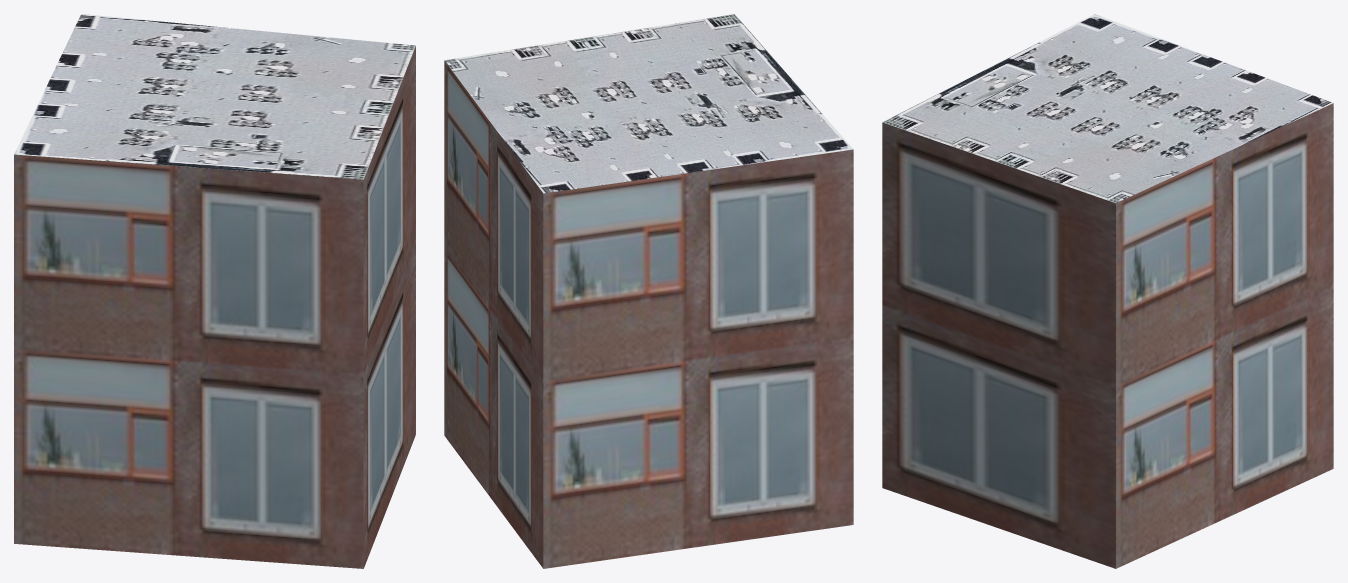
File: ResTex__5277.fbx
The picture shows the model from 3 angles, left to right: view 1: azimuth 30°, elevation 25°; view 2: azimuth 150°, elevation 25°; view 3: azimuth 270°, elevation 25°; orthographic projection. The views are drawn at different scales.
Parts seen in each view (by area): view 1: CityEngineMaterial_19_m, CityEngineMaterial_15_m; view 2: CityEngineMaterial_19_m, CityEngineMaterial_15_m; view 3: CityEngineMaterial_19_m, CityEngineMaterial_15_m.
Part boxes in pixels (bbox=[...]): CityEngineMaterial_19_m: bbox=[14, 46, 415, 568]; CityEngineMaterial_15_m: bbox=[14, 14, 415, 179]; CityEngineMaterial_19_m: bbox=[444, 60, 853, 568]; CityEngineMaterial_15_m: bbox=[444, 14, 853, 193]; CityEngineMaterial_19_m: bbox=[882, 103, 1333, 568]; CityEngineMaterial_15_m: bbox=[882, 14, 1333, 203].
Size of the model in its own units: 6.66 by 6 by 6.72.
Materials: 2 (2 with a texture image).
